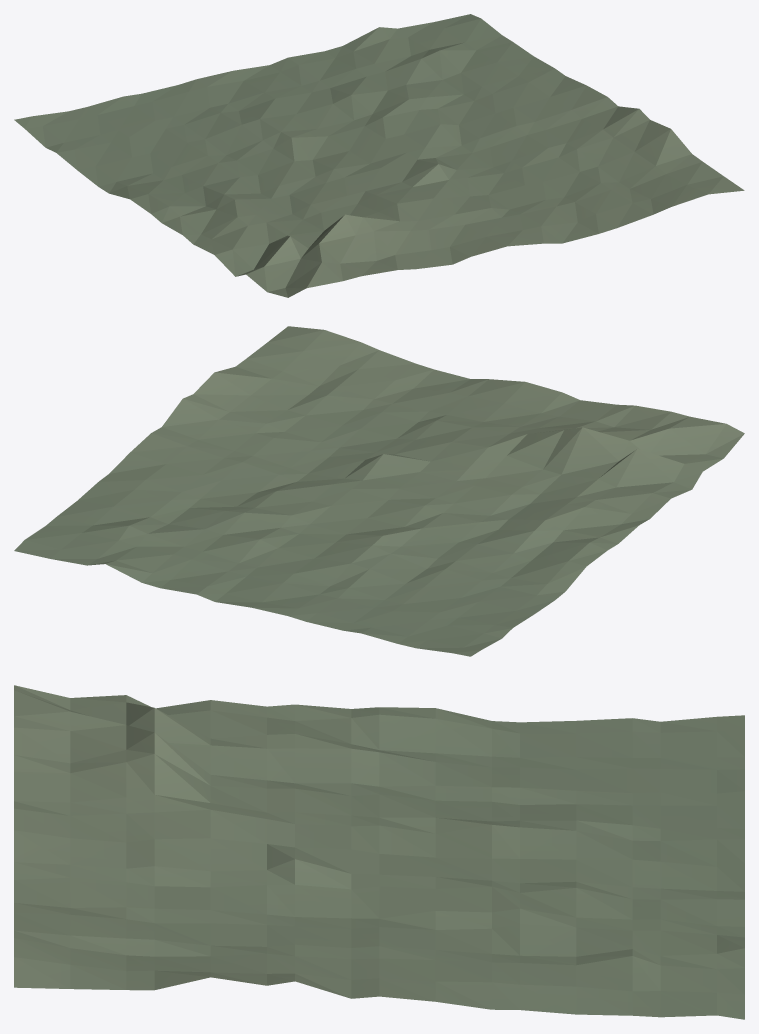
The model's file is tile_1_0.glb.
3 views of the same model, one above another, from view 1: azimuth 30°, elevation 25°; view 2: azimuth 150°, elevation 25°; view 3: azimuth 270°, elevation 25° (orthographic). The views are drawn at different scales.
Visible parts, largest first — view 1: geometry_0; view 2: geometry_0; view 3: geometry_0.
Boxes of the visible parts, bbox=[...] form: geometry_0: bbox=[14, 14, 744, 297]; geometry_0: bbox=[14, 326, 744, 656]; geometry_0: bbox=[14, 685, 744, 1019].
Bounding box in the file's own units: 123 × 12.38 × 127.
